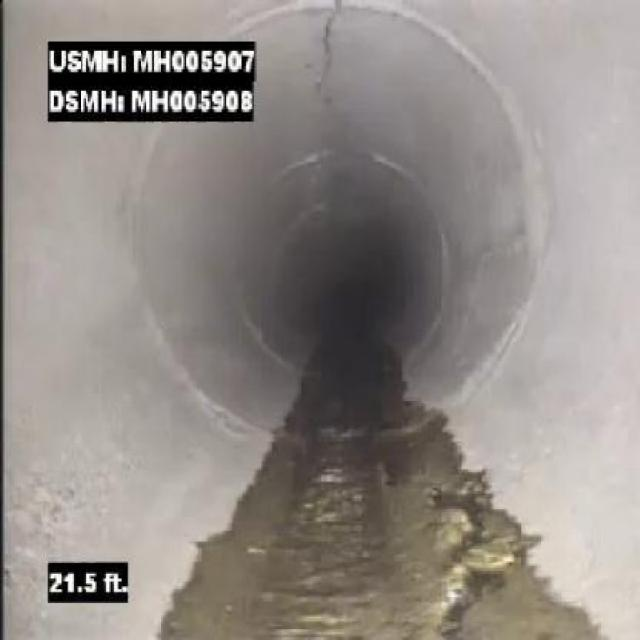Buckling: (414, 478, 521, 632)
Crack: (316, 6, 346, 125)
